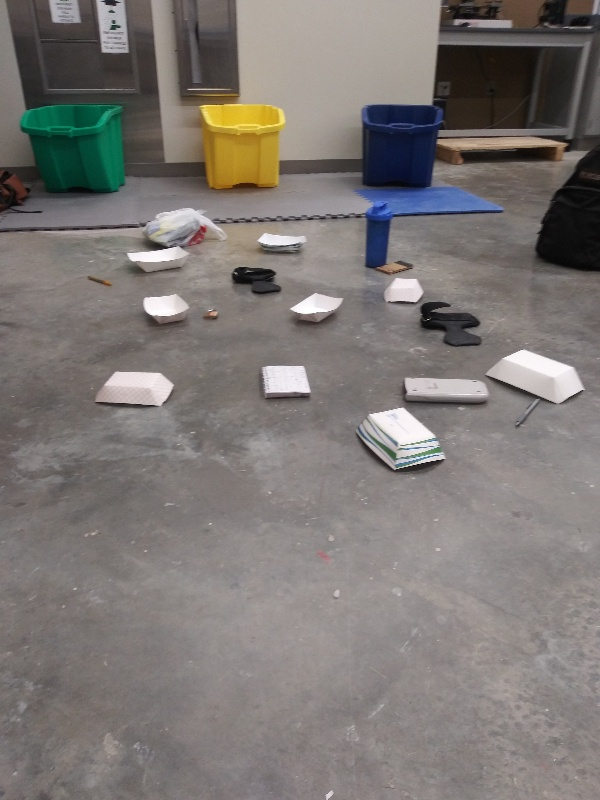plate: (352, 403, 452, 476), (483, 346, 590, 407), (92, 368, 178, 416), (124, 243, 195, 276), (286, 290, 346, 329), (140, 291, 190, 330), (254, 230, 309, 258), (381, 275, 426, 308)
